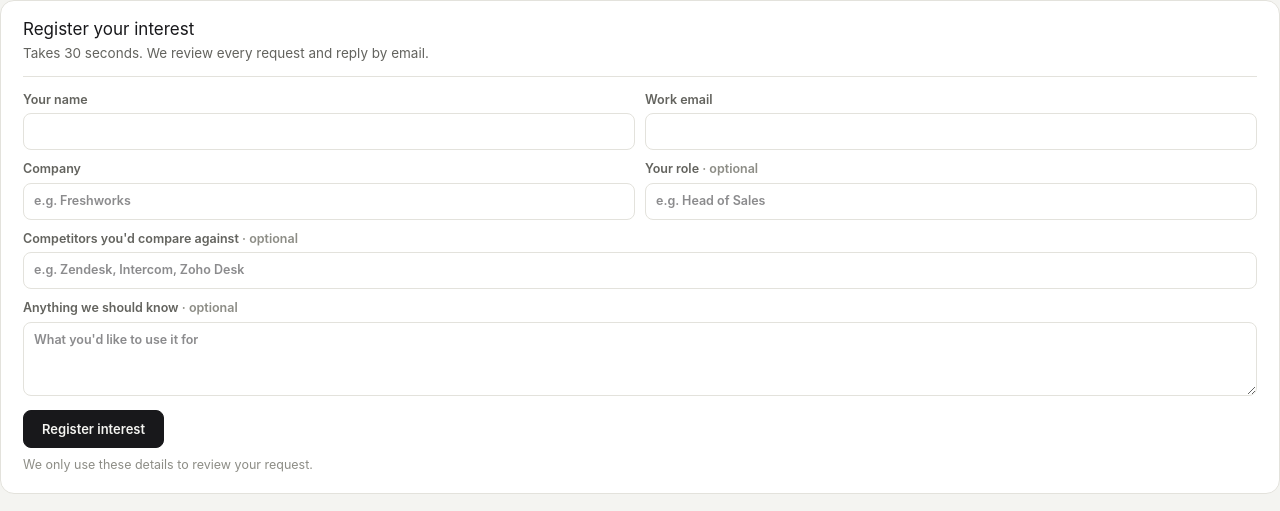
Test case: RequestForm › registers interest and thanks the visitor, without starting a run
In the field labelled "Your name": (329, 132) [23,113,635,150], type "Asha Rao"
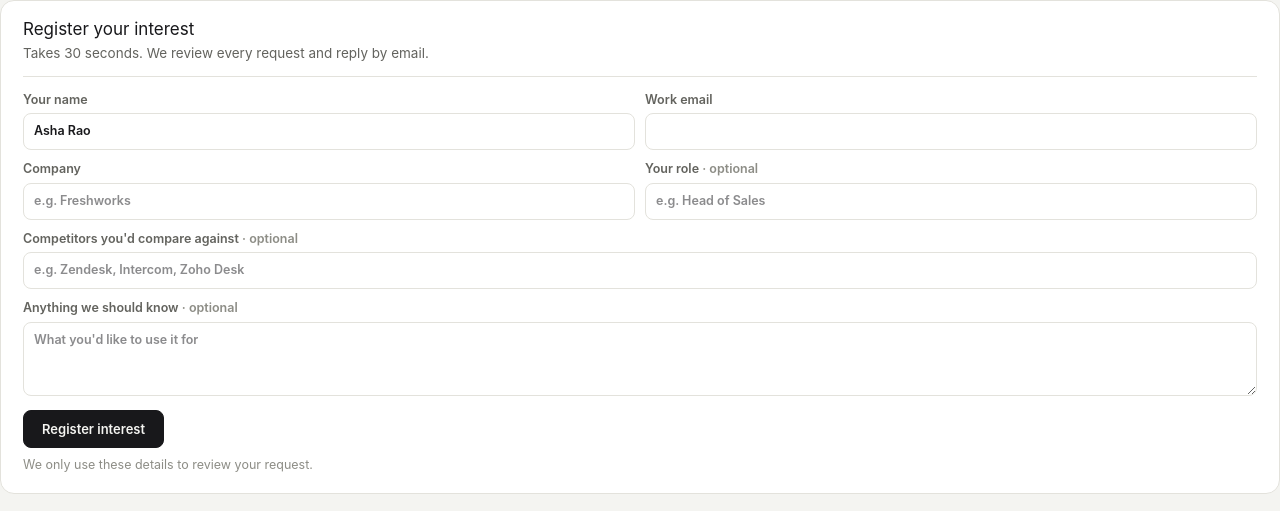
In the field labelled "Work email": (951, 132) [645,113,1257,150], type "asha@acme.com"
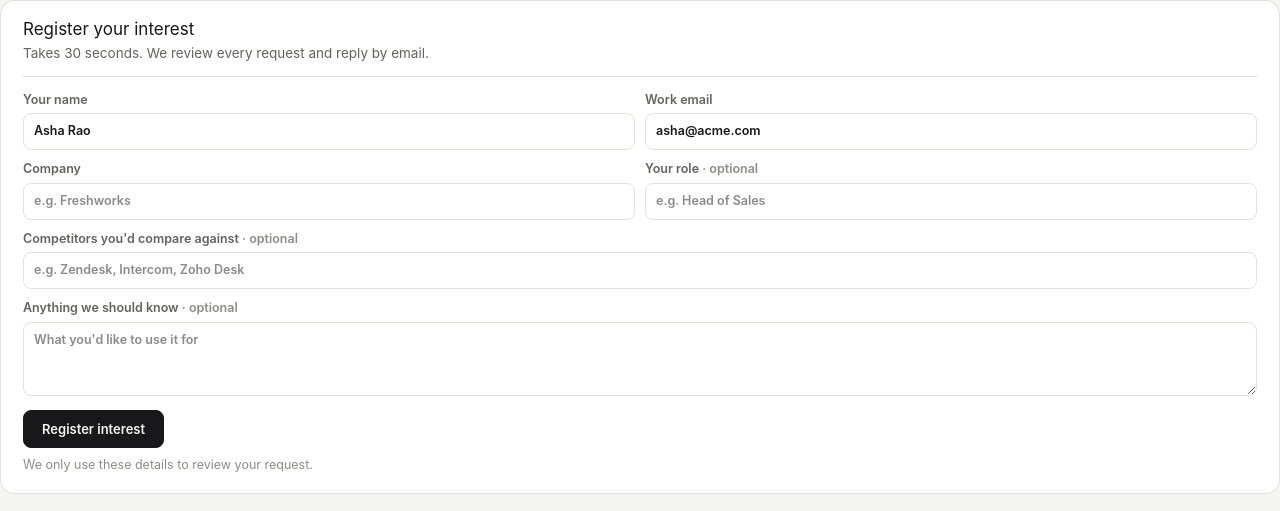
In the field labelled "Company": (329, 201) [23,183,635,220], type "Acme"
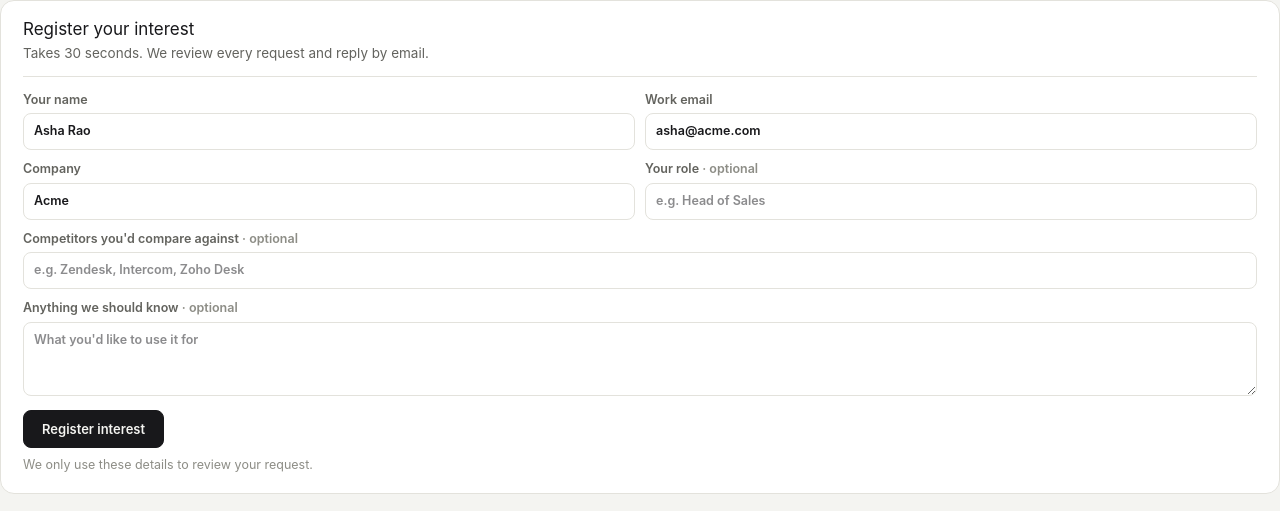
In the field labelled "Competitors you'd compare against · optional": (640, 271) [23,252,1257,289], type "Zendesk"
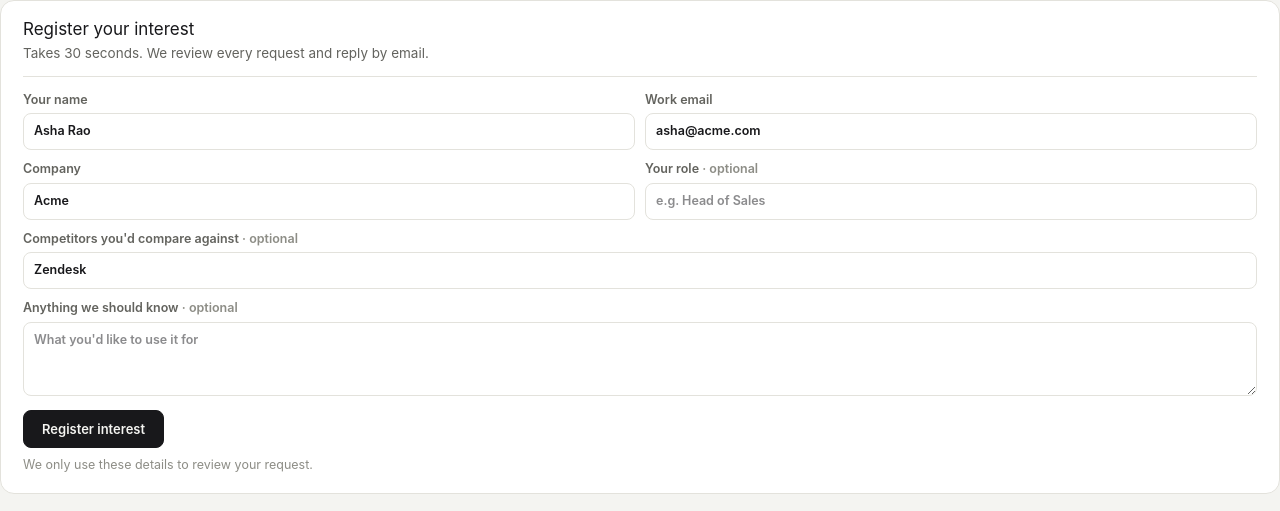
Click the button "Register interest": (94, 429) [23,410,164,448]
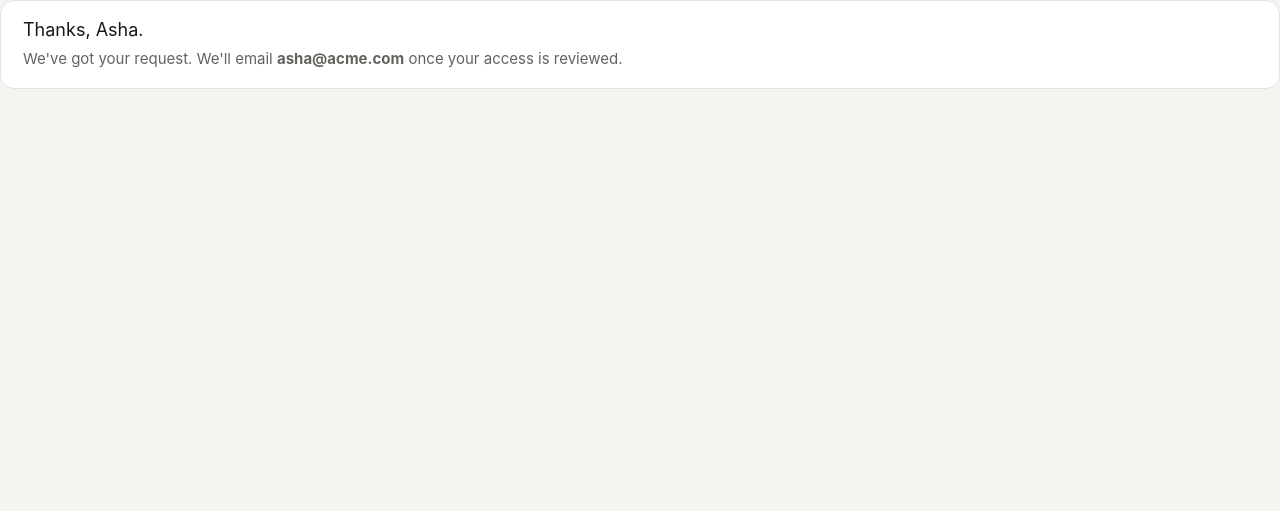
Check: the heading "Thanks, Asha." is shown, box [23,19,144,40]
